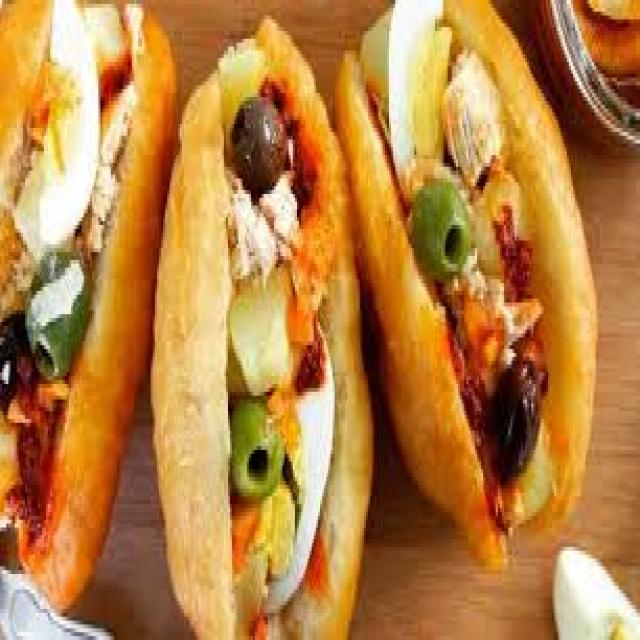Frecasse: (152, 0, 596, 638), (0, 0, 170, 606)
